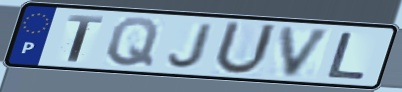J: (165, 22, 217, 70)
L: (324, 30, 370, 81)
Q: (104, 16, 162, 69)
T: (66, 13, 106, 64)
U: (210, 19, 280, 77)
V: (278, 25, 336, 80)
